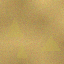structure: (6, 17, 23, 37), (40, 35, 61, 51), (16, 41, 27, 57)
